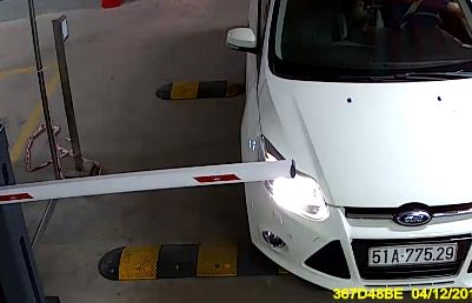plate: (365, 239, 460, 269)
